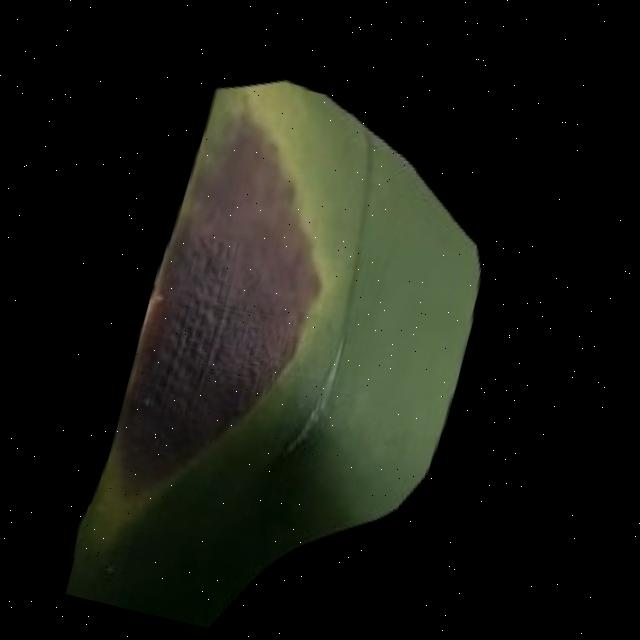mite: (0, 0, 638, 640), (184, 467, 583, 640), (184, 475, 429, 640), (278, 395, 338, 467), (86, 541, 140, 593), (100, 554, 128, 583)
spots: (60, 53, 532, 640)
sunburn: (100, 92, 369, 525)
